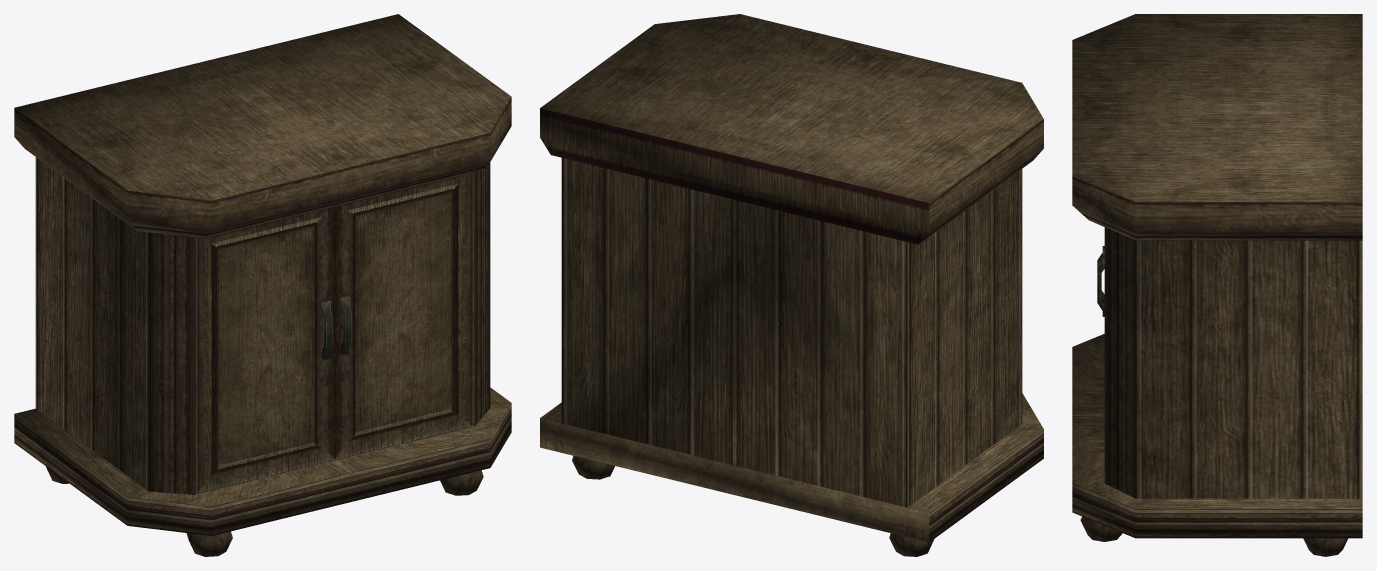
File: GS_CITY_CUPBOARD_BROWN_01_2_KOZA.glb
3 renders of one model, left to right at view 1: azimuth 30°, elevation 25°; view 2: azimuth 150°, elevation 25°; view 3: azimuth 270°, elevation 25°, orthographic.
Visible parts, largest first — view 1: Mesh; view 2: Mesh; view 3: Mesh.
Part boxes in pixels (<box>): Mesh: <box>14,14,511,556</box>; Mesh: <box>540,14,1043,556</box>; Mesh: <box>1072,14,1362,556</box>.
Bounding box in the file's own units: 1.38 × 1.25 × 0.9.
4 materials, 4 textured.
